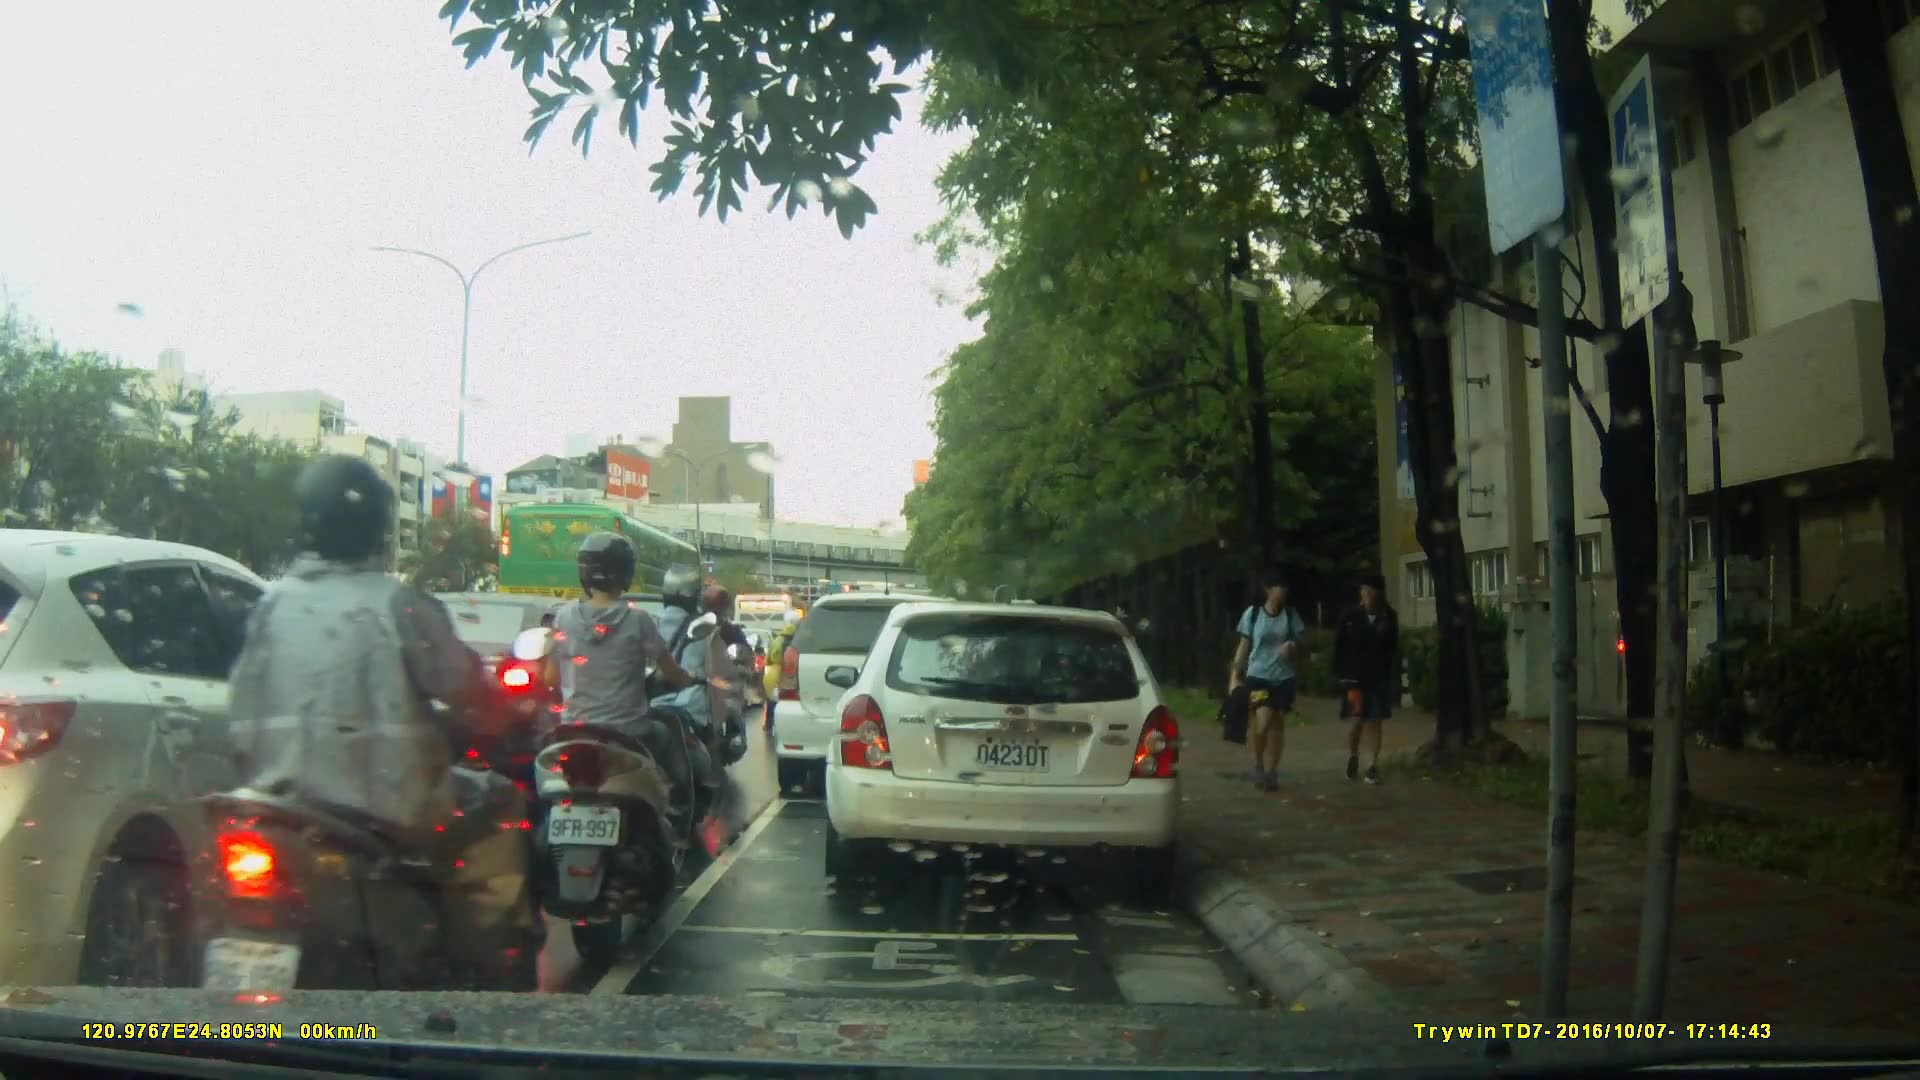pedestrian: (1210, 568, 1321, 798), (1321, 568, 1403, 790), (1117, 596, 1140, 684)
rider: (202, 447, 541, 1079), (528, 528, 700, 964), (636, 563, 726, 820), (682, 585, 756, 774), (771, 617, 809, 734)
vehicle: (1, 528, 449, 988), (831, 592, 1196, 897), (314, 590, 629, 801), (770, 591, 999, 803), (495, 500, 707, 636)
